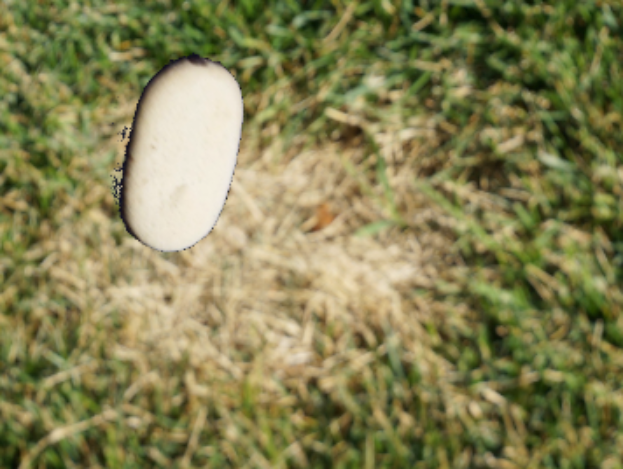test: (51, 24, 300, 273)
